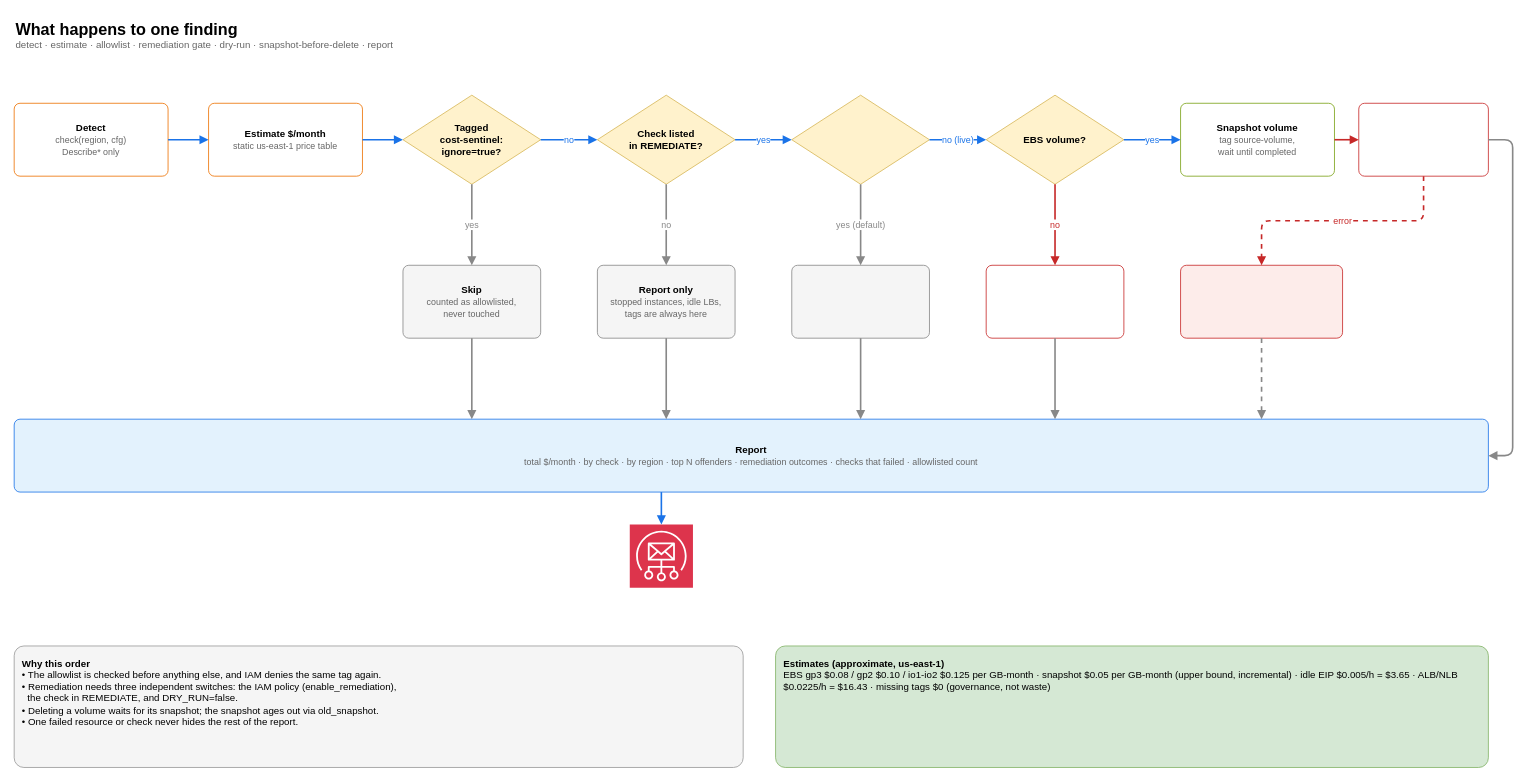
Image size: 1534x782. Some labels were removed from this diagram. Here are the shapes that lost their labels. From the top down, the centre of each, then its label:
[860,139]: DRY_RUN?
[1423,139]: Delete volume only after backup
[860,301]: Log only outcome: would ...
[1054,301]: Act release EIP · delete snapshot · deregister AMI
[1261,301]: On API error outcome: failed: ... run continues, shown in report
[661,556]: Notify SES email + Slack webhook
